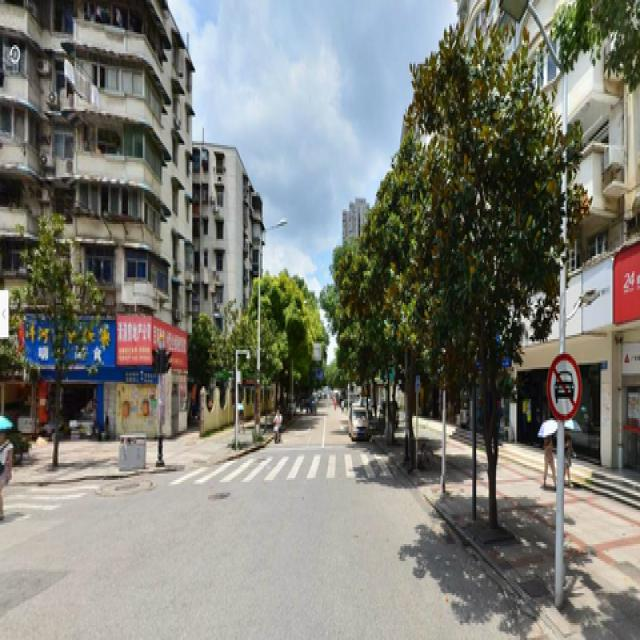magn: (398, 39, 554, 548)
